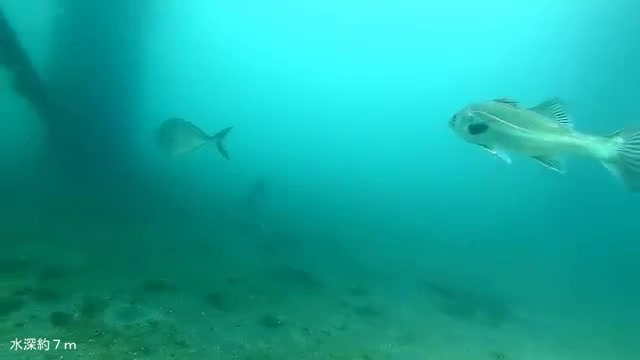hamati: (150, 110, 239, 165)
suzuki: (443, 89, 638, 191)
